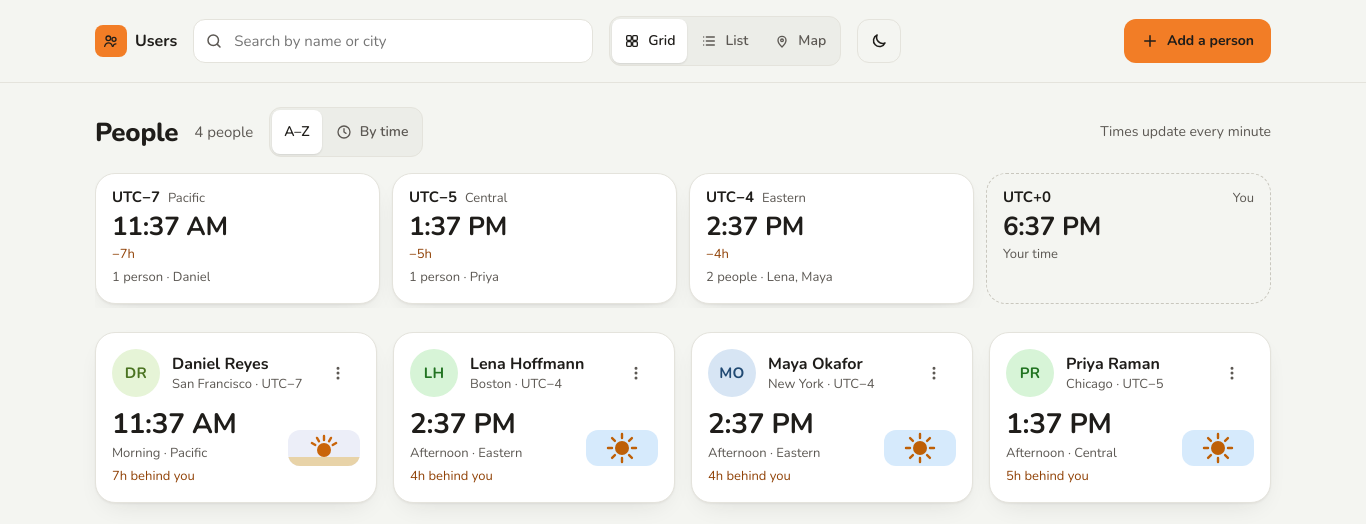
Test case: App › the timezone strip groups by offset and filters the grid
Check: the list named "People" is shown, box top-left (95, 332), bottom-right (1271, 503)
Click the button "UTC−4 Eastern 2:37 PM −4h 2 people · Lena, Maya": click(730, 197) top-left (689, 173), bottom-right (974, 304)
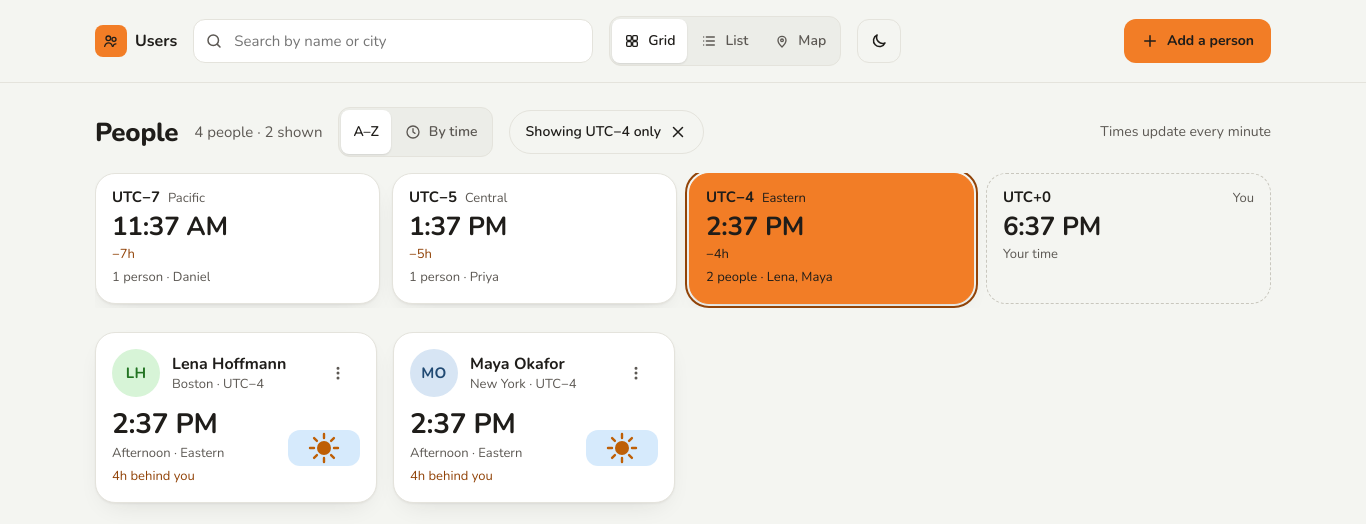
Check: the number of list items is 2, box top-left (95, 332), bottom-right (377, 503); top-left (393, 332), bottom-right (675, 503)
Check: the text "4 people · 2 shown" is shown, box top-left (194, 121), bottom-right (322, 143)
Click the button "Showing UTC−4 only": click(606, 132) top-left (509, 110), bottom-right (704, 154)
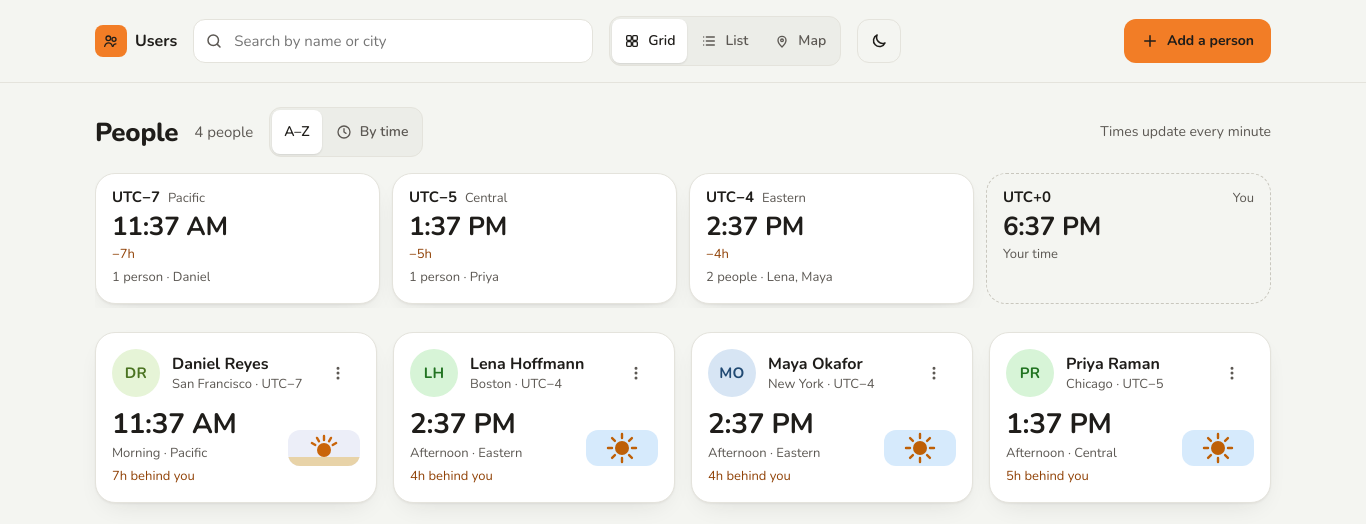
Check: the number of list items is 4, box top-left (95, 332), bottom-right (377, 503); top-left (393, 332), bottom-right (675, 503); top-left (691, 332), bottom-right (973, 503); top-left (989, 332), bottom-right (1271, 503)
